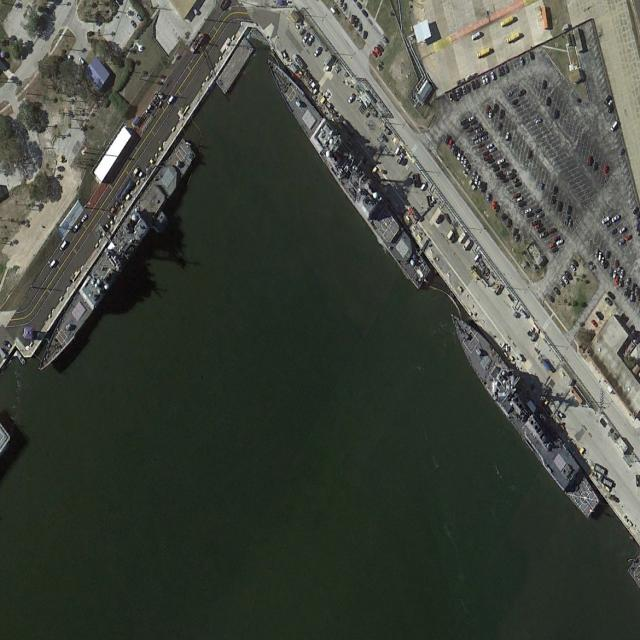Cruiser: (258, 42, 434, 293), (32, 133, 199, 380)
Destroyer: (440, 300, 604, 524)
